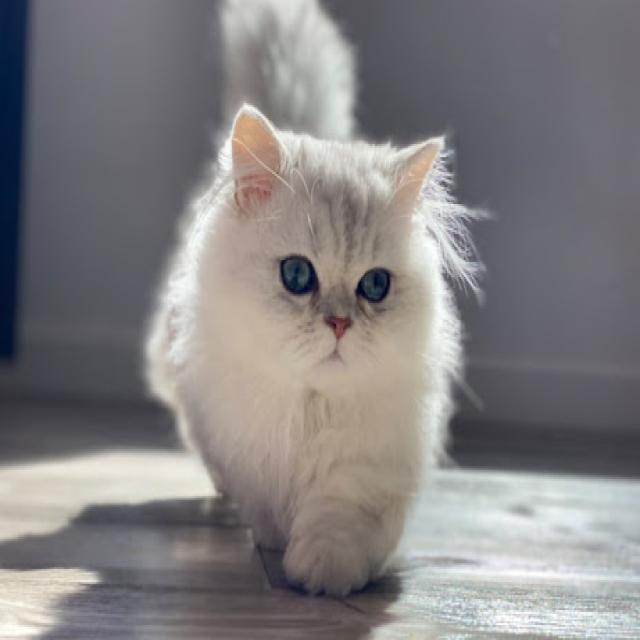Munchkin: (142, 0, 469, 599)
